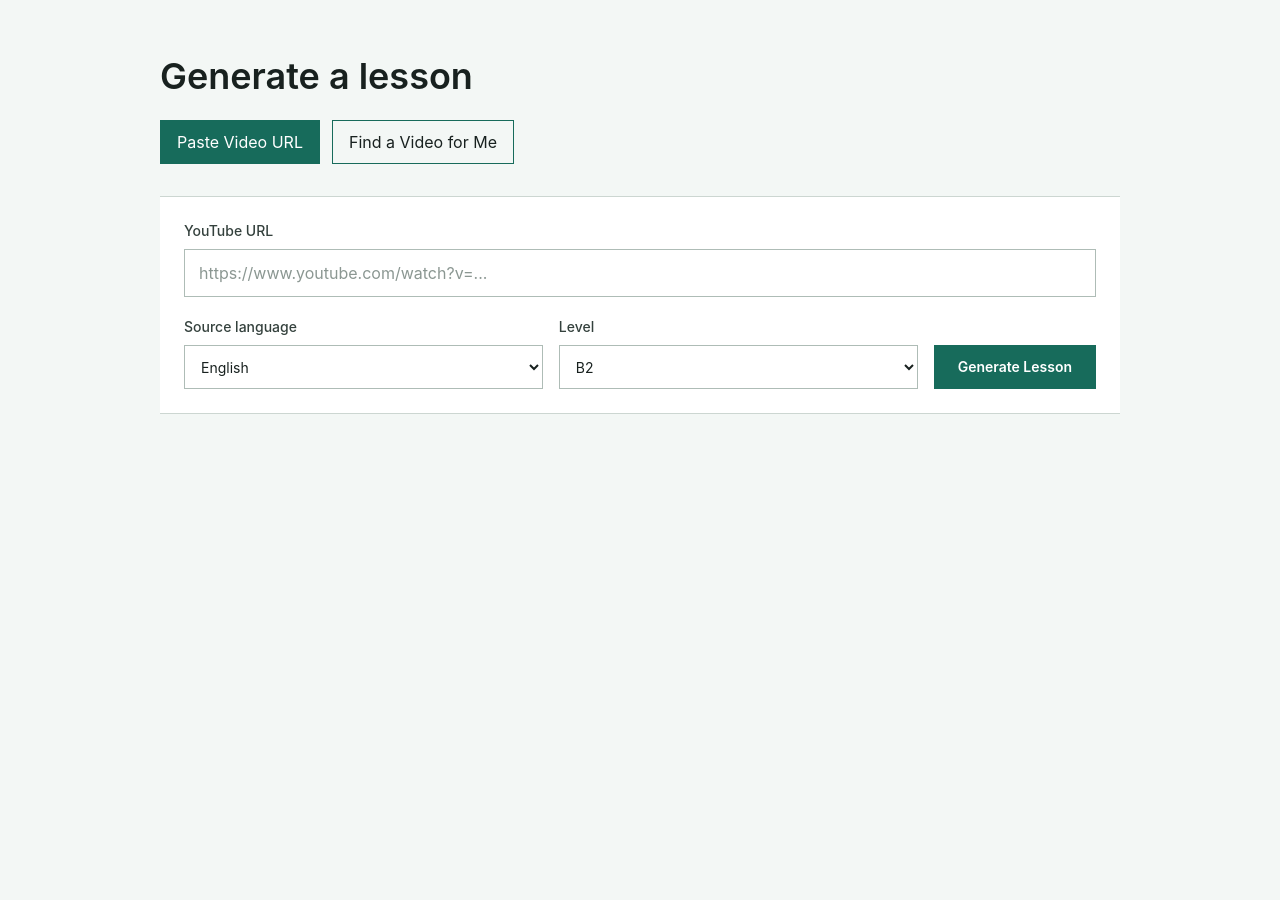
LessonGenerator Library integration › retries a failed Library save without regenerating the Lesson
The image size is (1280, 900).
Type "https://www.youtube.com/watch?v=personal" into the field labelled "YouTube URL" at (640, 273), box [184, 249, 1096, 297]
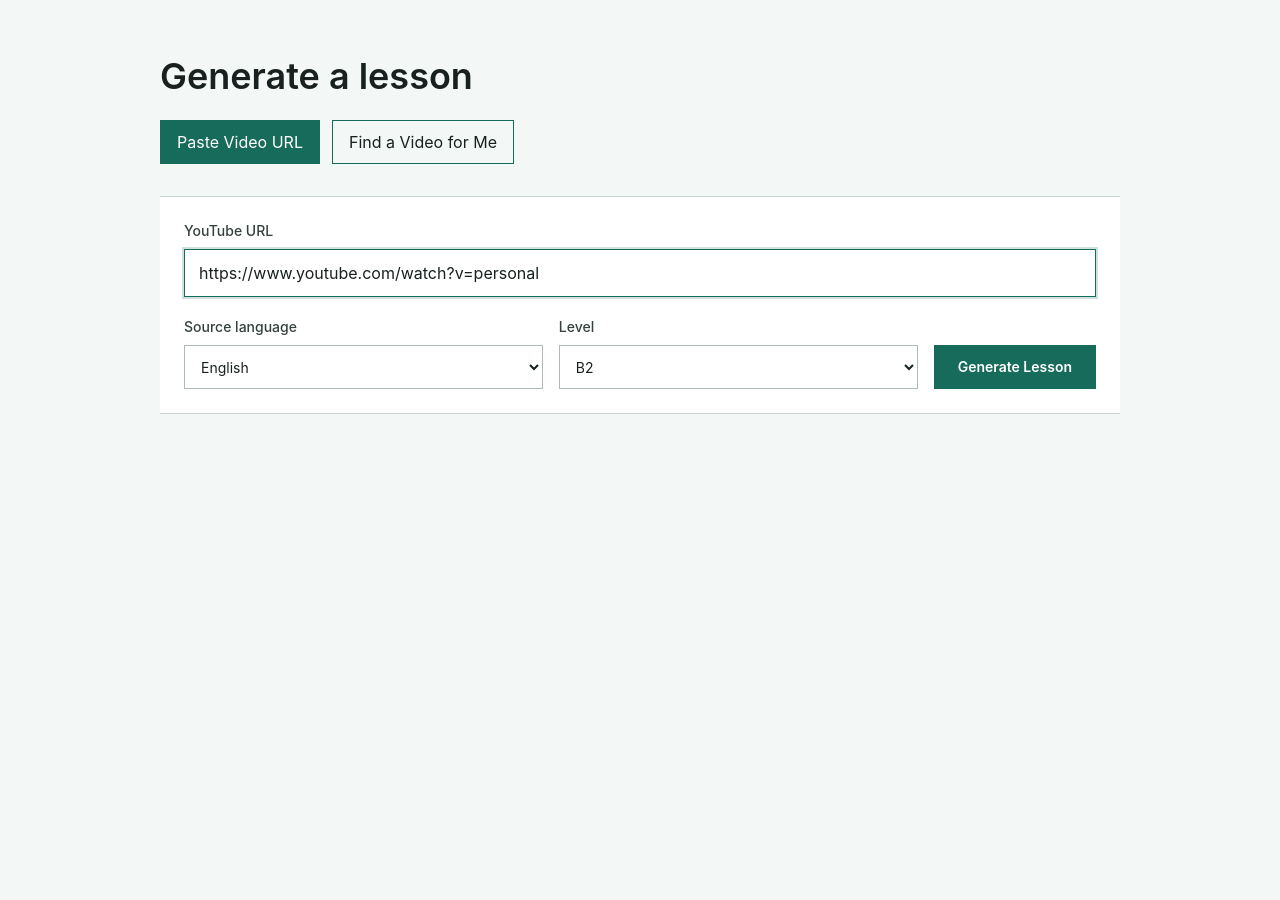
Click the button "Generate Lesson" at (1015, 367), box [934, 345, 1096, 389]
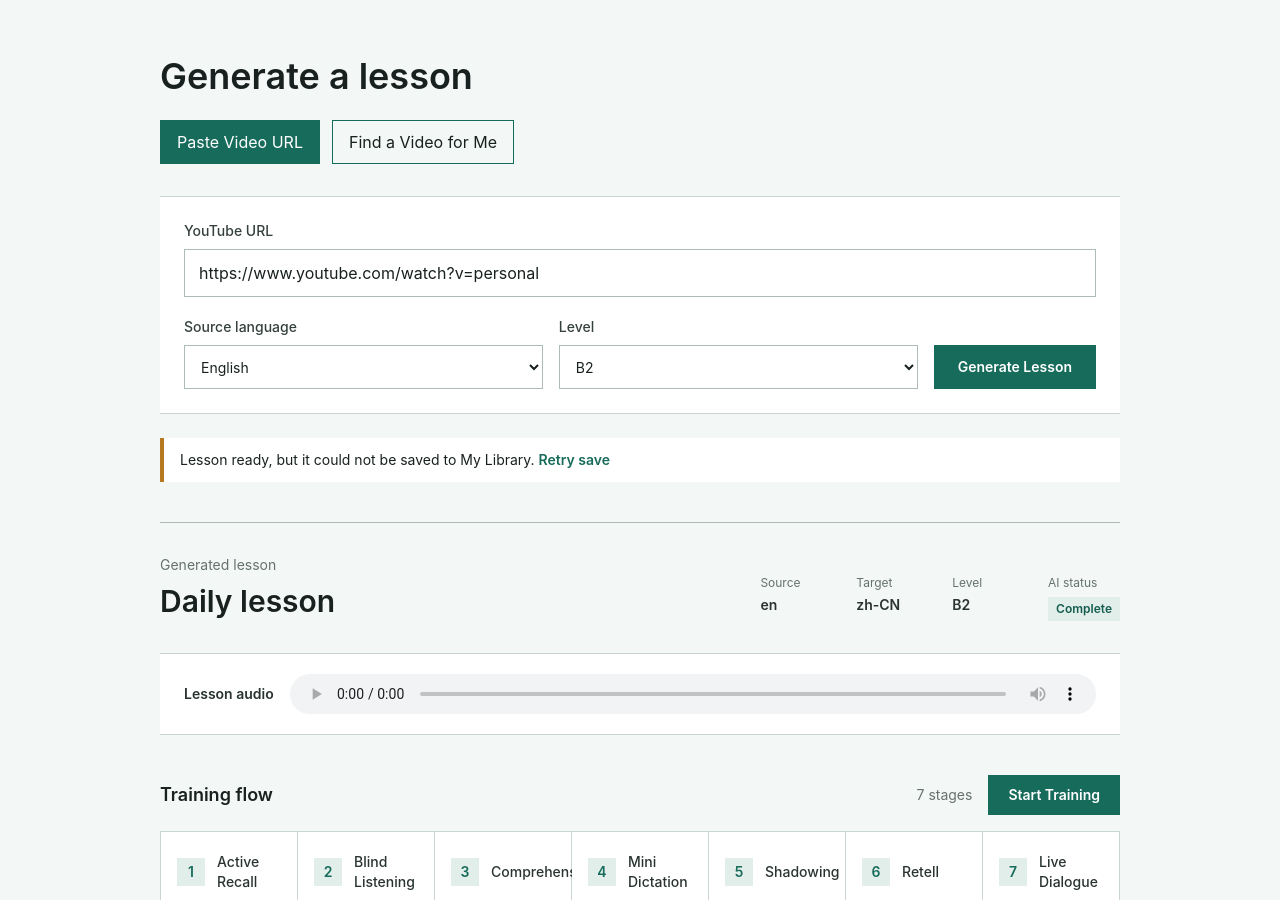
Click the button "Retry save" at (574, 460), box [539, 450, 610, 470]
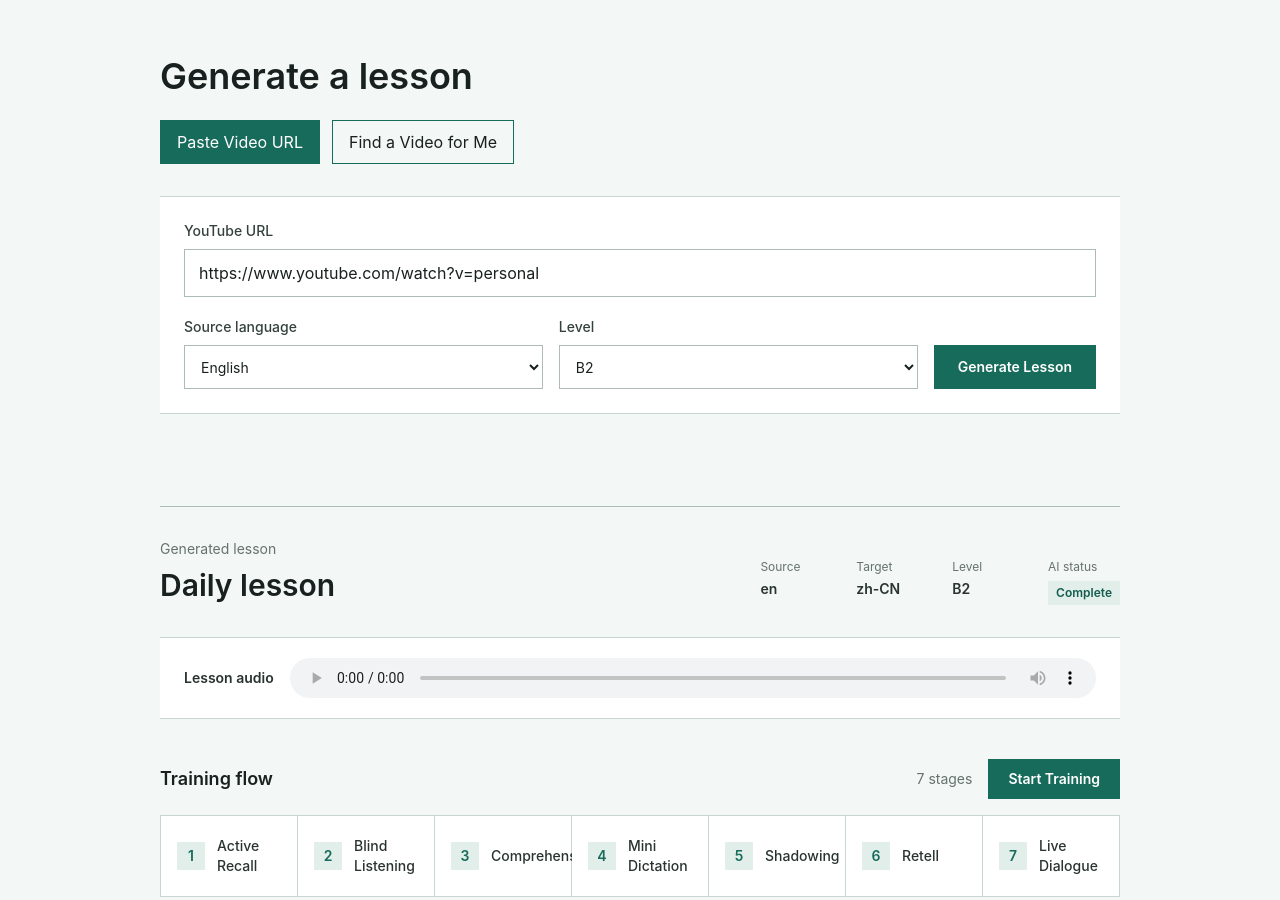
Result: the text "could not be saved" is gone
